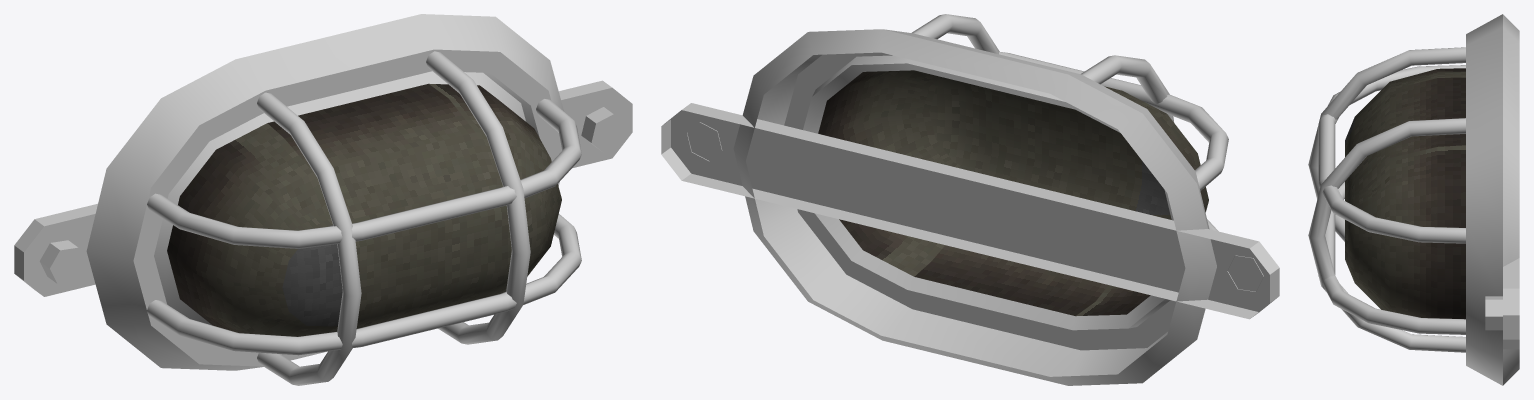
Rendered from lamp_2_off.fbx.
3 views of the same model, side by side, from view 1: azimuth 30°, elevation 25°; view 2: azimuth 150°, elevation 25°; view 3: azimuth 270°, elevation 25° (orthographic). The views are drawn at different scales.
Parts seen in each view (by area): view 1: lamp_2_off; view 2: lamp_2_off; view 3: lamp_2_off.
Boxes of the visible parts, left/top/right/bottom form: lamp_2_off: left=14, top=14, right=632, bottom=385; lamp_2_off: left=661, top=14, right=1279, bottom=385; lamp_2_off: left=1308, top=14, right=1519, bottom=385.
Bounding box in the file's own units: 0.36 × 0.126 × 0.176.
